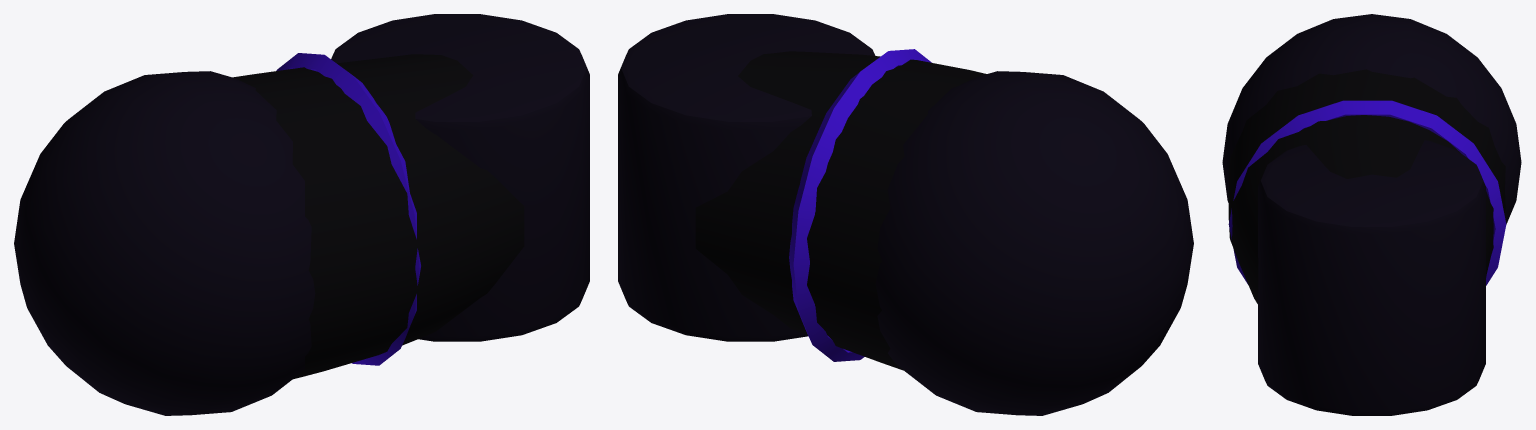
File: coxa.obj
3 renders of one model, left to right at view 1: azimuth 30°, elevation 25°; view 2: azimuth 150°, elevation 25°; view 3: azimuth 270°, elevation 25°, orthographic. The views are drawn at different scales.
Parts seen in each view (by area): view 1: coxa; view 2: coxa; view 3: coxa.
Part boxes in pixels (left/top/right/bottom): coxa: left=14, top=14, right=589, bottom=415; coxa: left=618, top=14, right=1193, bottom=415; coxa: left=1222, top=14, right=1521, bottom=415.
Bounding box in the file's own units: 0.0594 × 0.0336 × 0.0336.
